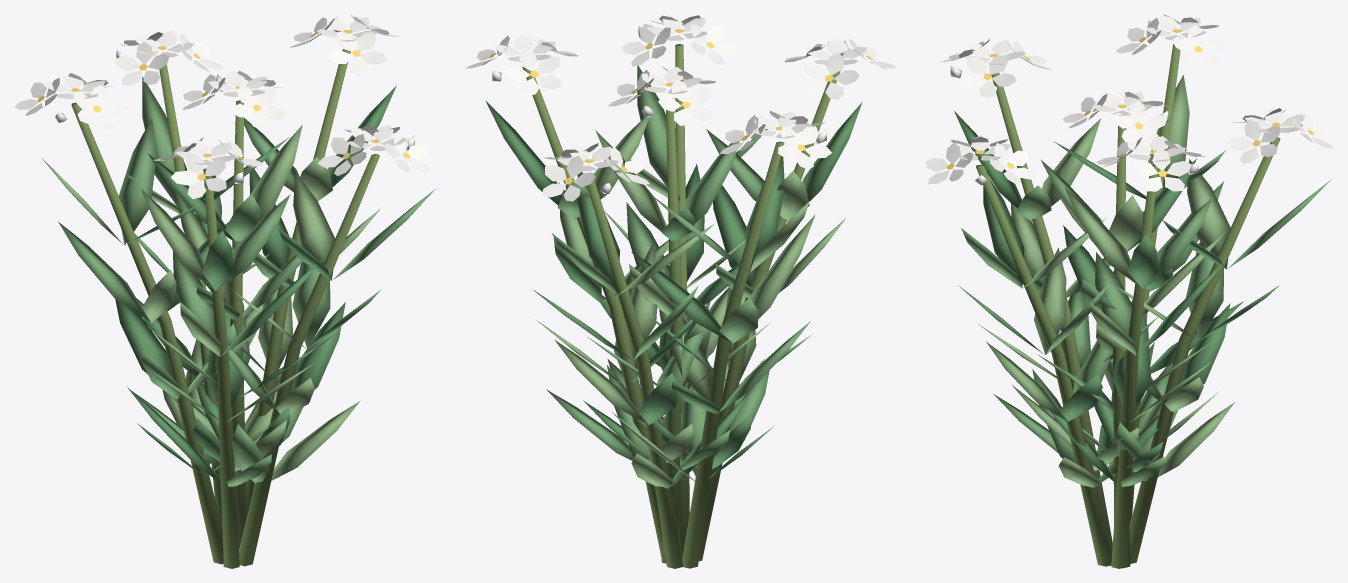
The model's file is oleander.glb.
The picture shows the model from 3 angles, left to right: view 1: azimuth 30°, elevation 25°; view 2: azimuth 150°, elevation 25°; view 3: azimuth 270°, elevation 25°; orthographic projection. The views are drawn at different scales.
Parts seen in each view (by area): view 1: Oleander | upright green stem.003, Oleander | upright green stem.005, Oleander | upright green stem.004, Oleander | upright green stem.001, Oleander | upright green stem, Foliage | folded leaf.046, Foliage | folded leaf.069, Foliage | folded leaf.011, Foliage | folded leaf.044, Foliage | folded leaf.035, Foliage | folded leaf.058, Foliage | folded leaf.041 (+47 smaller); view 2: Oleander | upright green stem.003, Oleander | upright green stem.002, Oleander | upright green stem.001, Oleander | upright green stem, Oleander | upright green stem.004, Oleander | upright green stem.005, Foliage | folded leaf.071, Foliage | folded leaf.042, Foliage | folded leaf.054, Foliage | folded leaf.010, Foliage | folded leaf.059, Foliage | folded leaf.023 (+53 smaller); view 3: Oleander | upright green stem.002, Oleander | upright green stem.005, Oleander | upright green stem.001, Oleander | upright green stem.004, Foliage | folded leaf.033, Foliage | folded leaf.022, Oleander | upright green stem, Foliage | folded leaf.027, Foliage | folded leaf.067, Foliage | folded leaf.019, Foliage | folded leaf.021, Foliage | folded leaf.047 (+52 smaller).
Boxes of the visible parts, <box> form: Oleander | upright green stem.003: <box>71,102,223,564</box>; Oleander | upright green stem.005: <box>239,154,379,566</box>; Oleander | upright green stem.004: <box>203,168,239,568</box>; Oleander | upright green stem.001: <box>246,49,350,516</box>; Oleander | upright green stem: <box>230,100,246,549</box>; Foliage | folded leaf.046: <box>119,119,156,245</box>; Foliage | folded leaf.069: <box>293,172,334,280</box>; Foliage | folded leaf.011: <box>249,125,302,220</box>; Foliage | folded leaf.044: <box>58,221,150,322</box>; Foliage | folded leaf.035: <box>142,76,186,206</box>; Foliage | folded leaf.058: <box>140,188,214,289</box>; Foliage | folded leaf.041: <box>115,299,171,376</box>; Oleander | upright green stem.003: <box>682,141,784,568</box>; Oleander | upright green stem.002: <box>587,179,682,568</box>; Oleander | upright green stem.001: <box>522,67,662,557</box>; Oleander | upright green stem: <box>661,98,682,563</box>; Oleander | upright green stem.004: <box>699,71,840,561</box>; Oleander | upright green stem.005: <box>675,44,689,557</box>; Foliage | folded leaf.071: <box>637,65,667,186</box>; Foliage | folded leaf.042: <box>749,214,815,318</box>; Foliage | folded leaf.054: <box>713,185,757,286</box>; Foliage | folded leaf.010: <box>682,141,739,223</box>; Foliage | folded leaf.059: <box>802,102,862,201</box>; Foliage | folded leaf.023: <box>485,100,562,205</box>; Oleander | upright green stem.002: <box>1129,137,1280,563</box>; Oleander | upright green stem.005: <box>976,164,1111,566</box>; Oleander | upright green stem.001: <box>1111,165,1158,568</box>; Oleander | upright green stem.004: <box>991,72,1112,551</box>; Foliage | folded leaf.033: <box>1187,159,1230,268</box>; Foliage | folded leaf.022: <box>1064,187,1141,287</box>; Oleander | upright green stem: <box>1113,126,1130,568</box>; Foliage | folded leaf.027: <box>1179,303,1230,389</box>; Foliage | folded leaf.067: <box>1034,247,1066,354</box>; Foliage | folded leaf.019: <box>1095,252,1136,354</box>; Foliage | folded leaf.021: <box>1144,197,1212,287</box>; Foliage | folded leaf.047: <box>1148,75,1189,189</box>.
Size of the model in its own units: 0.4 by 0.52 by 0.4.
